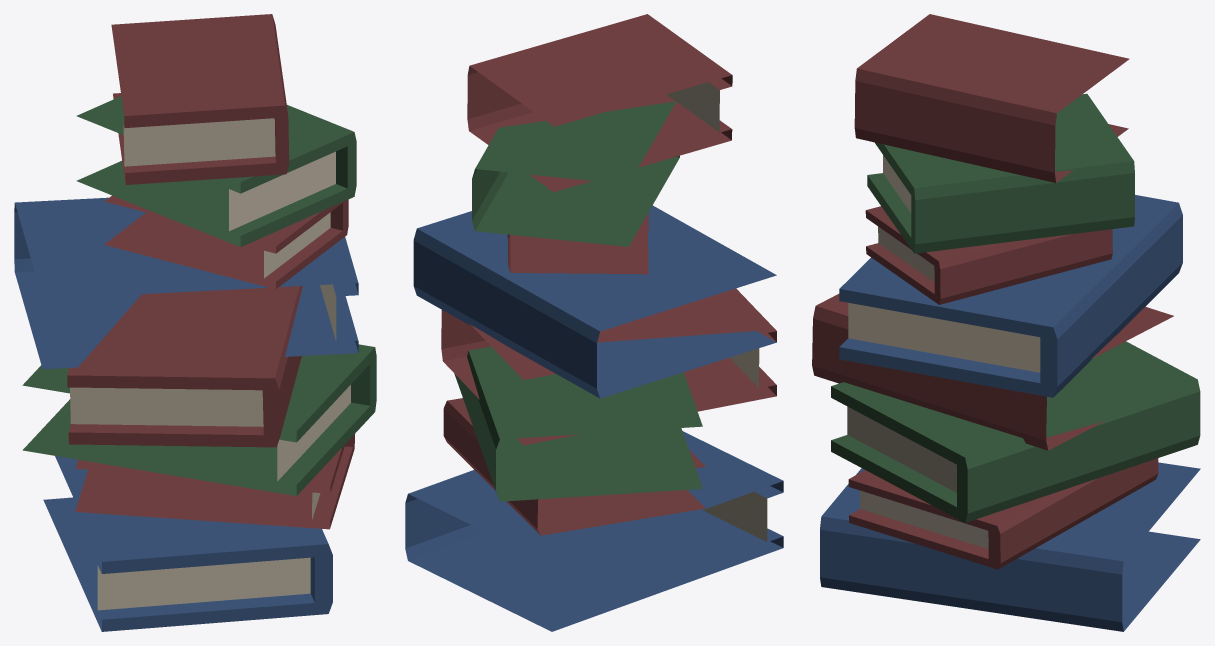
The model's file is BookPile02.fbx.
3 views of the same model, side by side, from view 1: azimuth 30°, elevation 25°; view 2: azimuth 150°, elevation 25°; view 3: azimuth 270°, elevation 25° (orthographic). The views are drawn at different scales.
Visible parts, largest first — view 1: BookPile02; view 2: BookPile02; view 3: BookPile02.
Part boxes in pixels (bbox=[...]): BookPile02: bbox=[14, 14, 376, 631]; BookPile02: bbox=[405, 14, 783, 631]; BookPile02: bbox=[812, 14, 1200, 631].
Size of the model in its own units: 41.91 by 59.94 by 41.78.
